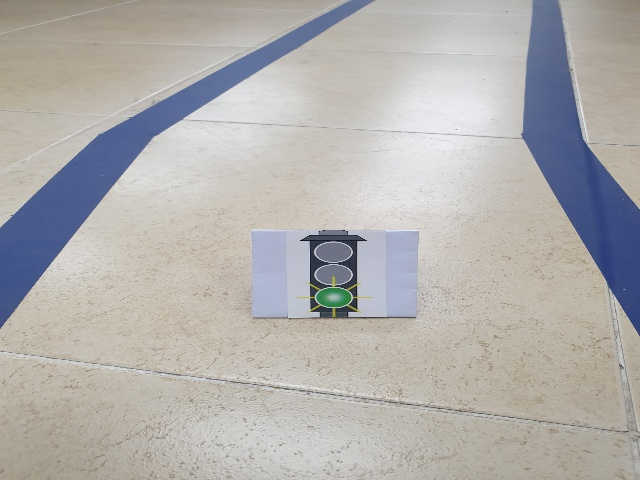Green Light: (291, 231, 377, 318)
